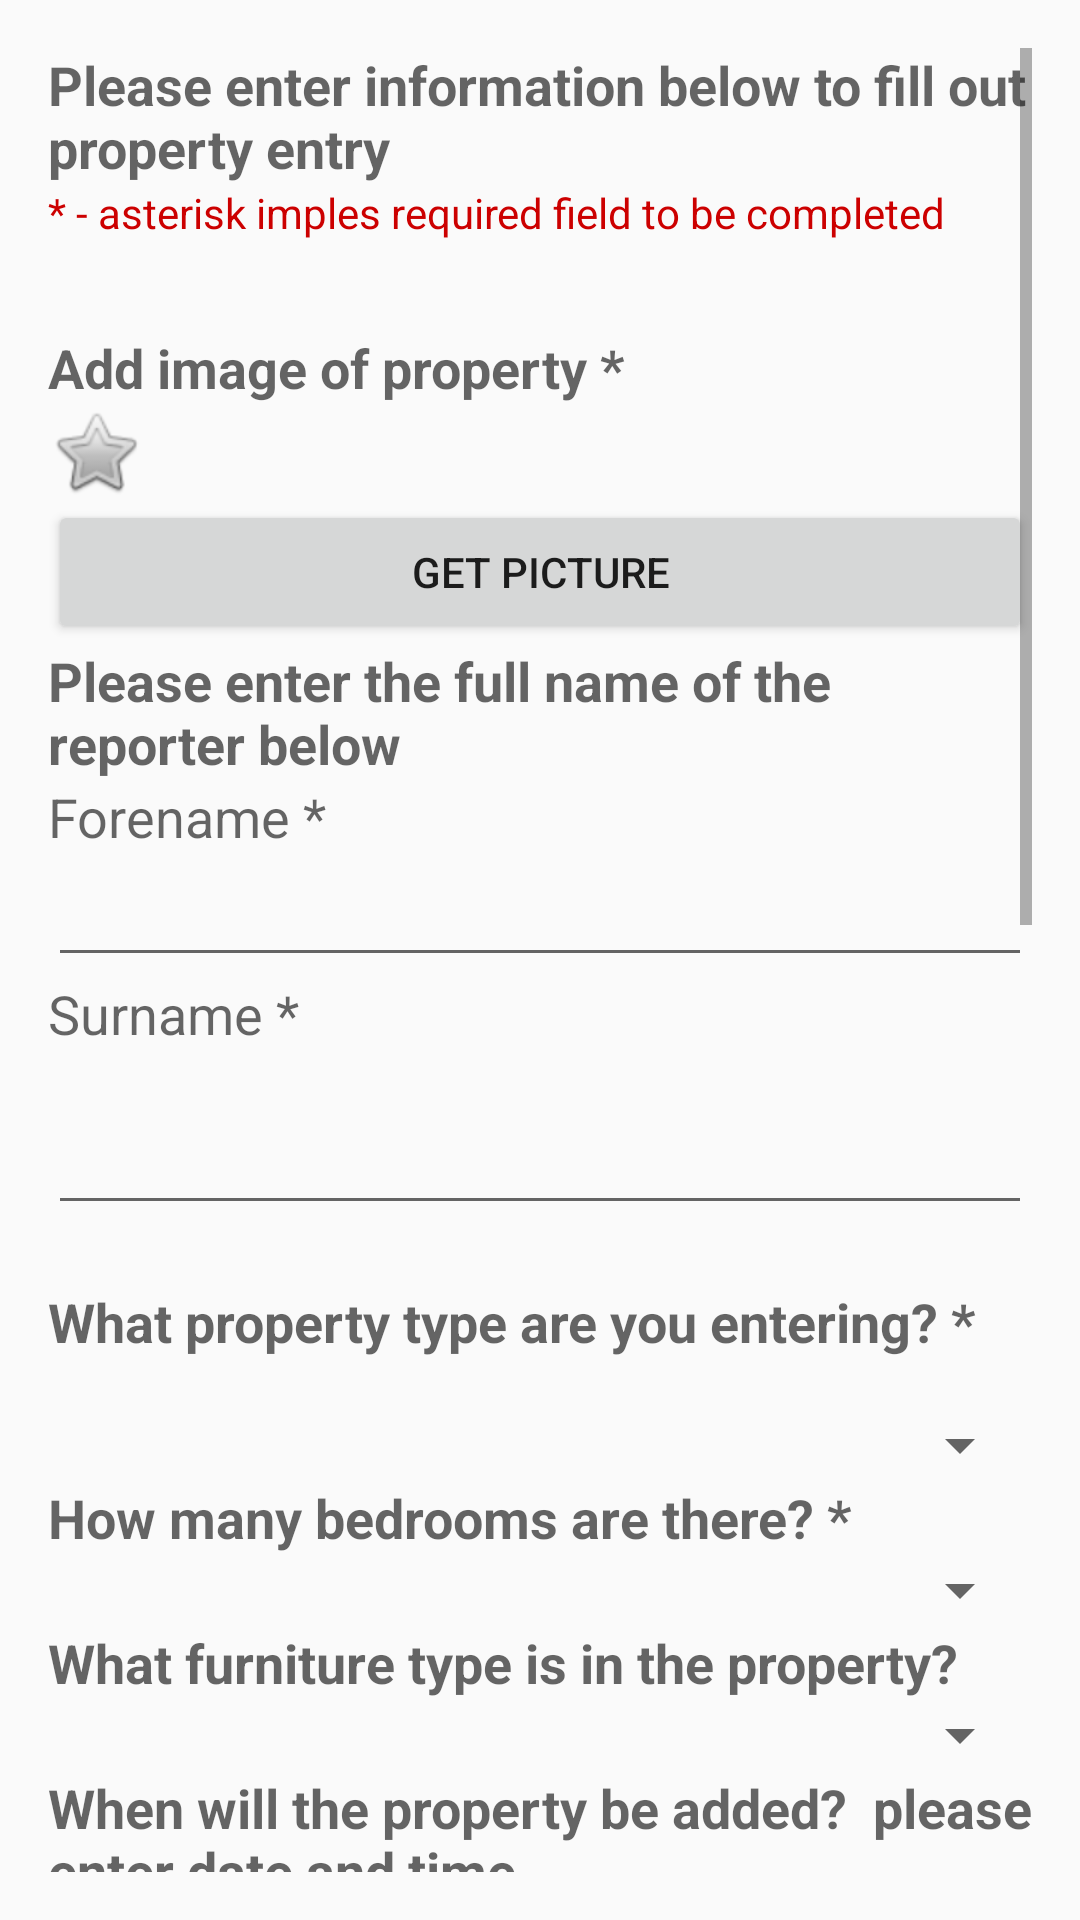

Named icons in this screenshot (1080×1920) and their bounding boxes, detection(x1, y1, x2, y2):
star: detection(57, 414, 137, 492)
